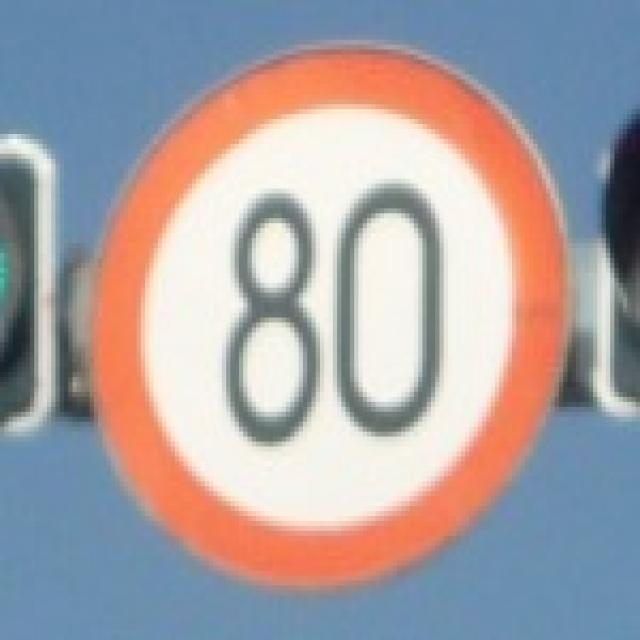Speed Limit -80-: (221, 174, 448, 455)
